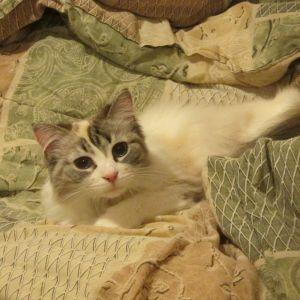ragdoll: (30, 86, 152, 212)
